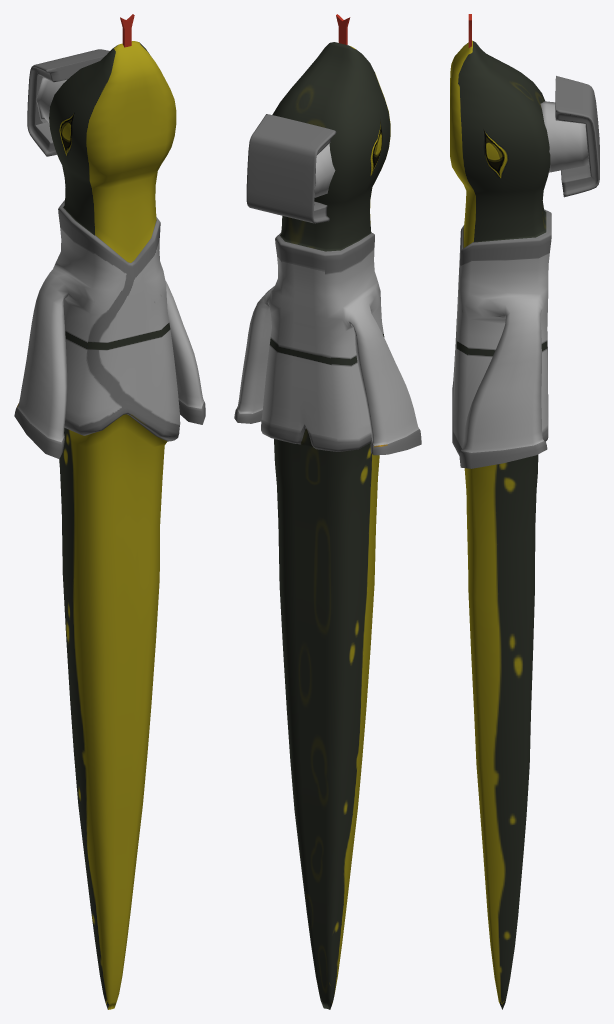
File: Snake colored (no rig).fbx
3 views of the same model, side by side, from view 1: azimuth 30°, elevation 25°; view 2: azimuth 150°, elevation 25°; view 3: azimuth 270°, elevation 25° (orthographic). The views are drawn at different scales.
Parts seen in each view (by area): view 1: pCube14; view 2: pCube14; view 3: pCube14.
Part boxes in pixels (<box>): pCube14: <box>14,14,205,1009</box>; pCube14: <box>234,14,421,1009</box>; pCube14: <box>450,14,599,1009</box>.
Size of the model in its own units: 3.13 by 18.26 by 2.5.
